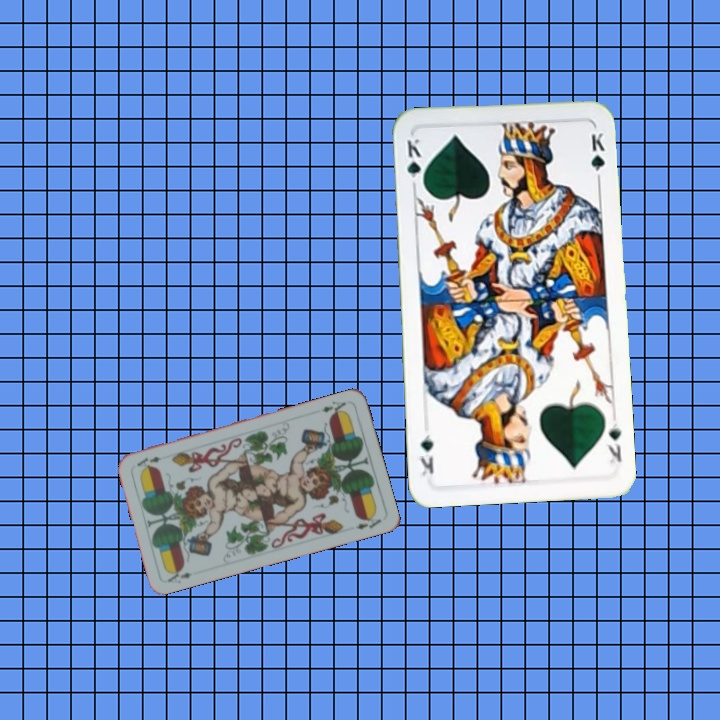EA: (163, 564, 195, 586), (317, 397, 349, 418)
GK: (402, 134, 426, 191), (602, 419, 624, 467)
